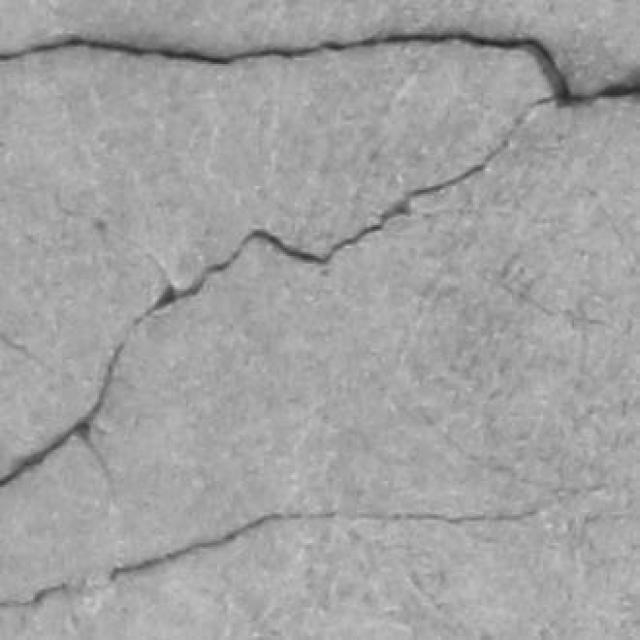crack: (0, 99, 550, 488), (158, 99, 552, 308), (0, 30, 639, 106), (0, 32, 585, 104), (103, 507, 544, 583), (0, 293, 164, 488), (0, 332, 56, 374)
